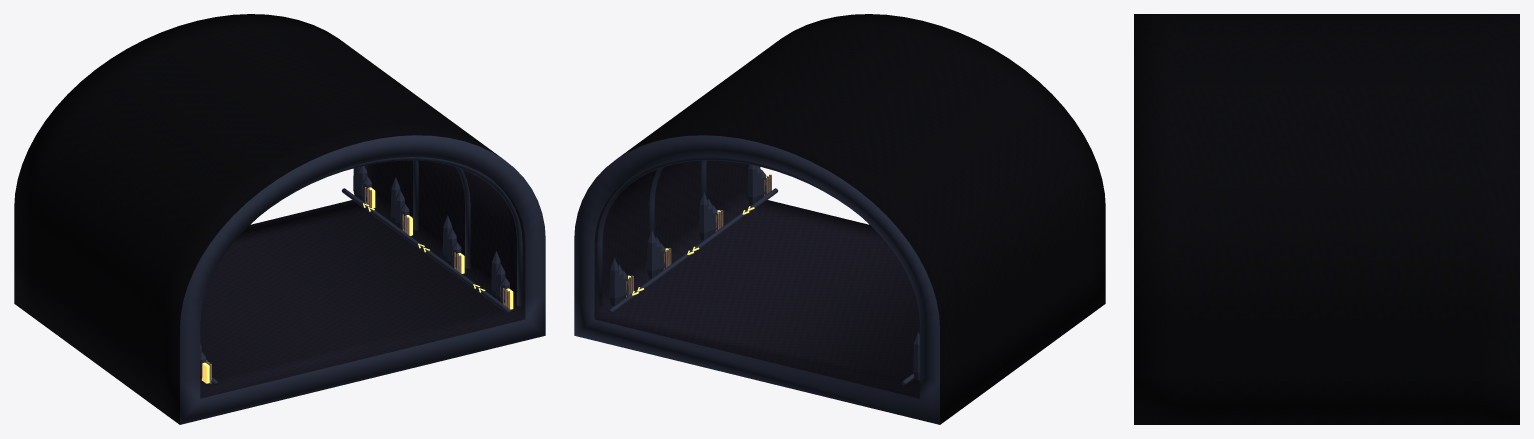
Rendered from straight_12m.glb.
The picture shows the model from 3 angles, left to right: view 1: azimuth 30°, elevation 25°; view 2: azimuth 150°, elevation 25°; view 3: azimuth 270°, elevation 25°; orthographic projection. The views are drawn at different scales.
Visible parts, largest first — view 1: TunnelGeometry; view 2: TunnelGeometry; view 3: TunnelGeometry.
Boxes of the visible parts, box(x1,y1,x2,y2) form: TunnelGeometry: box(14, 14, 545, 424); TunnelGeometry: box(574, 14, 1105, 424); TunnelGeometry: box(1134, 14, 1519, 424).
Size of the model in its own units: 15.3 by 9.52 by 12.
5 materials, 2 textured.
